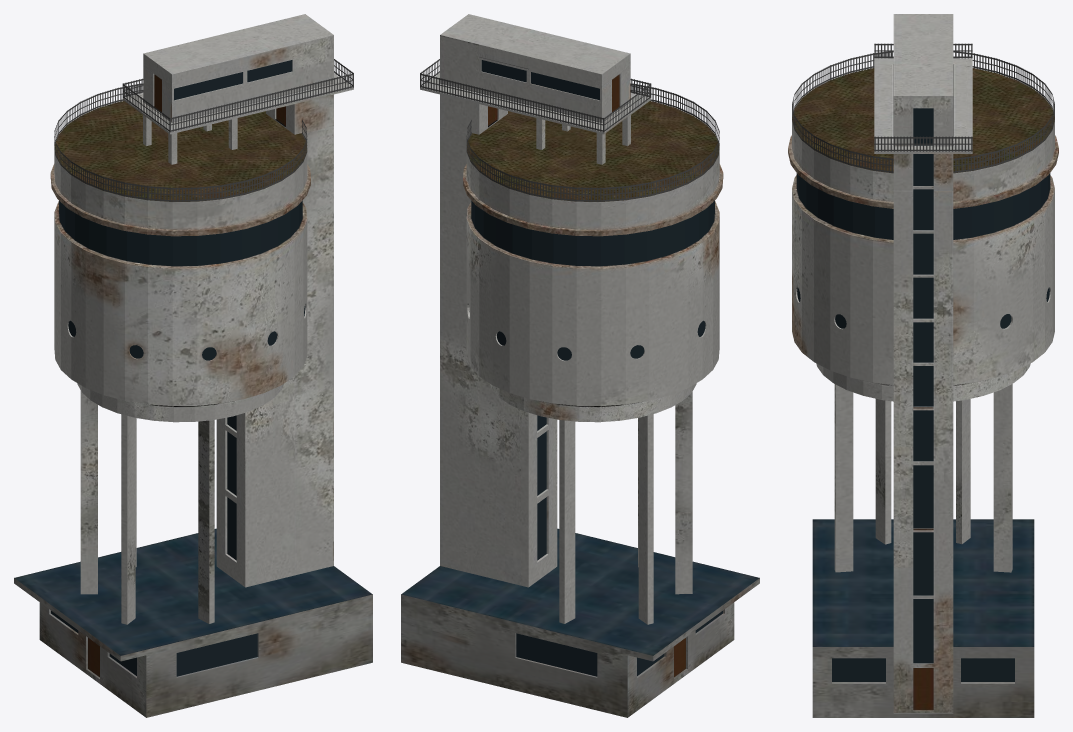
Rendered from white_tower.glb.
3 renders of one model, left to right at view 1: azimuth 30°, elevation 25°; view 2: azimuth 150°, elevation 25°; view 3: azimuth 270°, elevation 25°, orthographic. The views are drawn at different scales.
Parts seen in each view (by area): view 1: white_tower; view 2: white_tower; view 3: white_tower.
Part boxes in pixels (<box>): white_tower: <box>14,14,372,717</box>; white_tower: <box>401,14,759,717</box>; white_tower: <box>788,14,1058,717</box>.
Bounding box in the file's own units: 13.32 × 29 × 11.45.
Materials: 6 (5 with a texture image).
